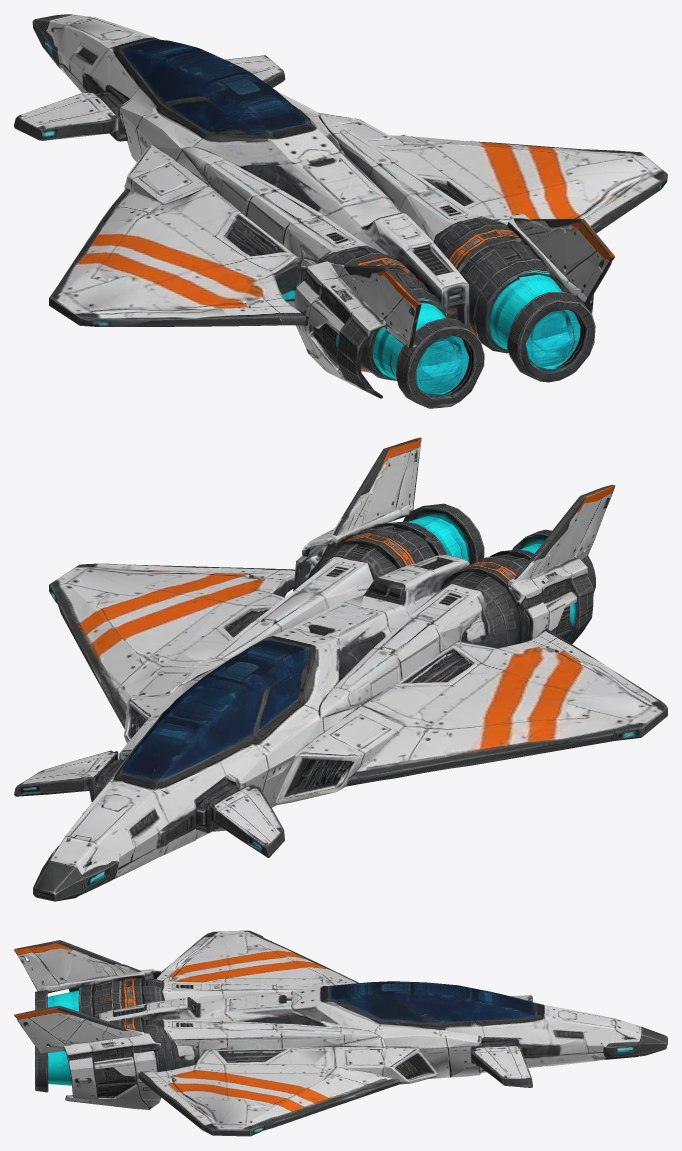
Rendered from lantern.glb.
3 views of the same model, one above another, from view 1: azimuth 30°, elevation 25°; view 2: azimuth 150°, elevation 25°; view 3: azimuth 270°, elevation 25° (orthographic). The views are drawn at different scales.
Parts seen in each view (by area): view 1: Mesh_0; view 2: Mesh_0; view 3: Mesh_0.
Boxes of the visible parts, x1=… form: Mesh_0: x1=14, y1=14, x2=667, y2=408; Mesh_0: x1=14, y1=437, x2=667, y2=901; Mesh_0: x1=14, y1=930, x2=667, y2=1136.
Bounding box in the file's own units: 13.03 × 3.27 × 18.
1 material, 1 textured.
